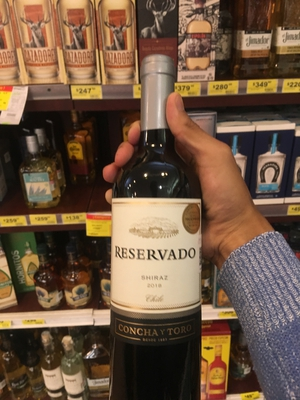reservado shiraz: (102, 59, 232, 400)
